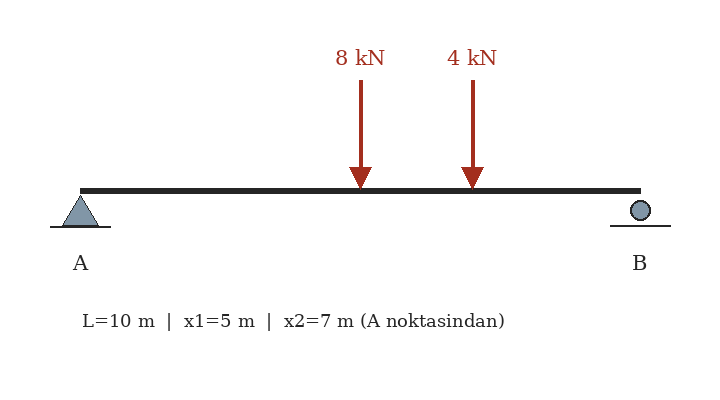pin_support: (61, 190, 99, 226)
point_load: (346, 76, 374, 190), (458, 76, 486, 190)
roller_support: (625, 196, 655, 227)
